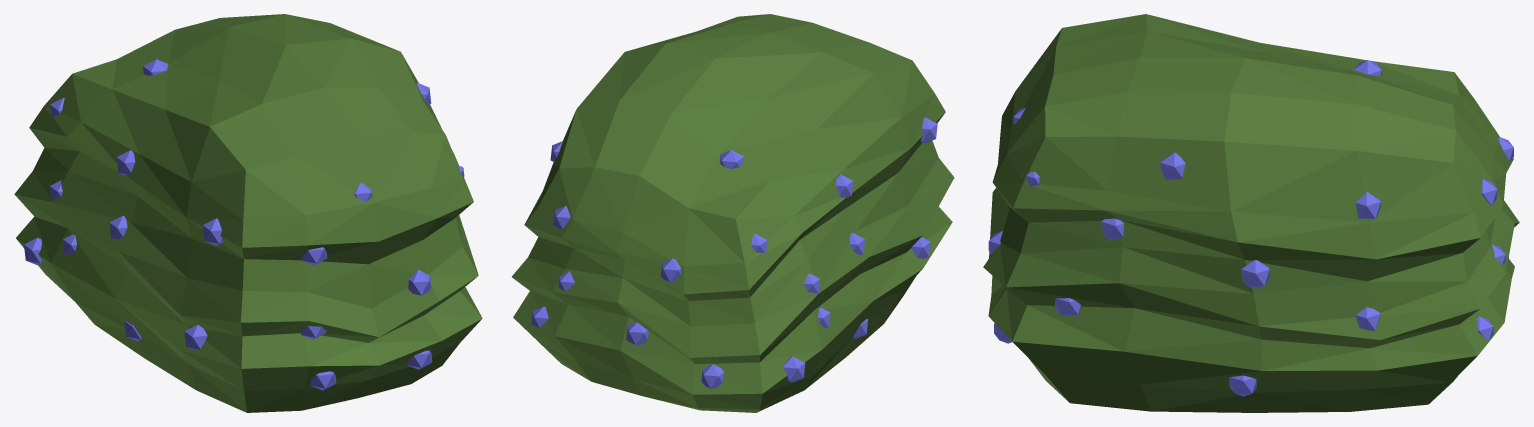
Rendered from Bush_1_2.fbx.
3 views of the same model, side by side, from view 1: azimuth 30°, elevation 25°; view 2: azimuth 150°, elevation 25°; view 3: azimuth 270°, elevation 25° (orthographic). The views are drawn at different scales.
Visible parts, largest first — view 1: Bush_1_2; view 2: Bush_1_2; view 3: Bush_1_2.
Part boxes in pixels (x1,y1,x2,y2): Bush_1_2: (14,14,482,412); Bush_1_2: (512,14,954,412); Bush_1_2: (983,14,1519,412).
Bounding box in the file's own units: 1.61 × 1.34 × 2.14.
